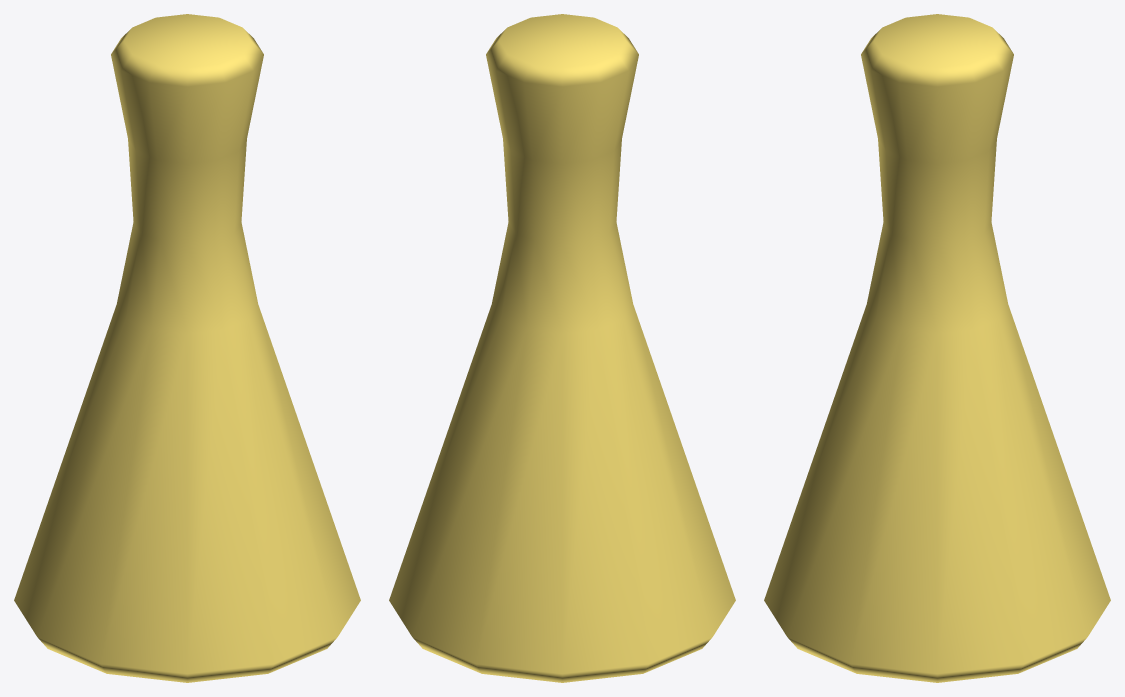
The model's file is Decoration_1.glb.
The picture shows the model from 3 angles, left to right: view 1: azimuth 30°, elevation 25°; view 2: azimuth 150°, elevation 25°; view 3: azimuth 270°, elevation 25°; orthographic projection.
Visible parts, largest first — view 1: Decoration_1; view 2: Decoration_1; view 3: Decoration_1.
Boxes of the visible parts, x1=… form: Decoration_1: x1=14, y1=14, x2=360, y2=682; Decoration_1: x1=389, y1=14, x2=735, y2=682; Decoration_1: x1=764, y1=14, x2=1110, y2=682.
Size of the model in its own units: 0.1909 by 0.3484 by 0.1909.
Materials: 1 (1 with a texture image).
